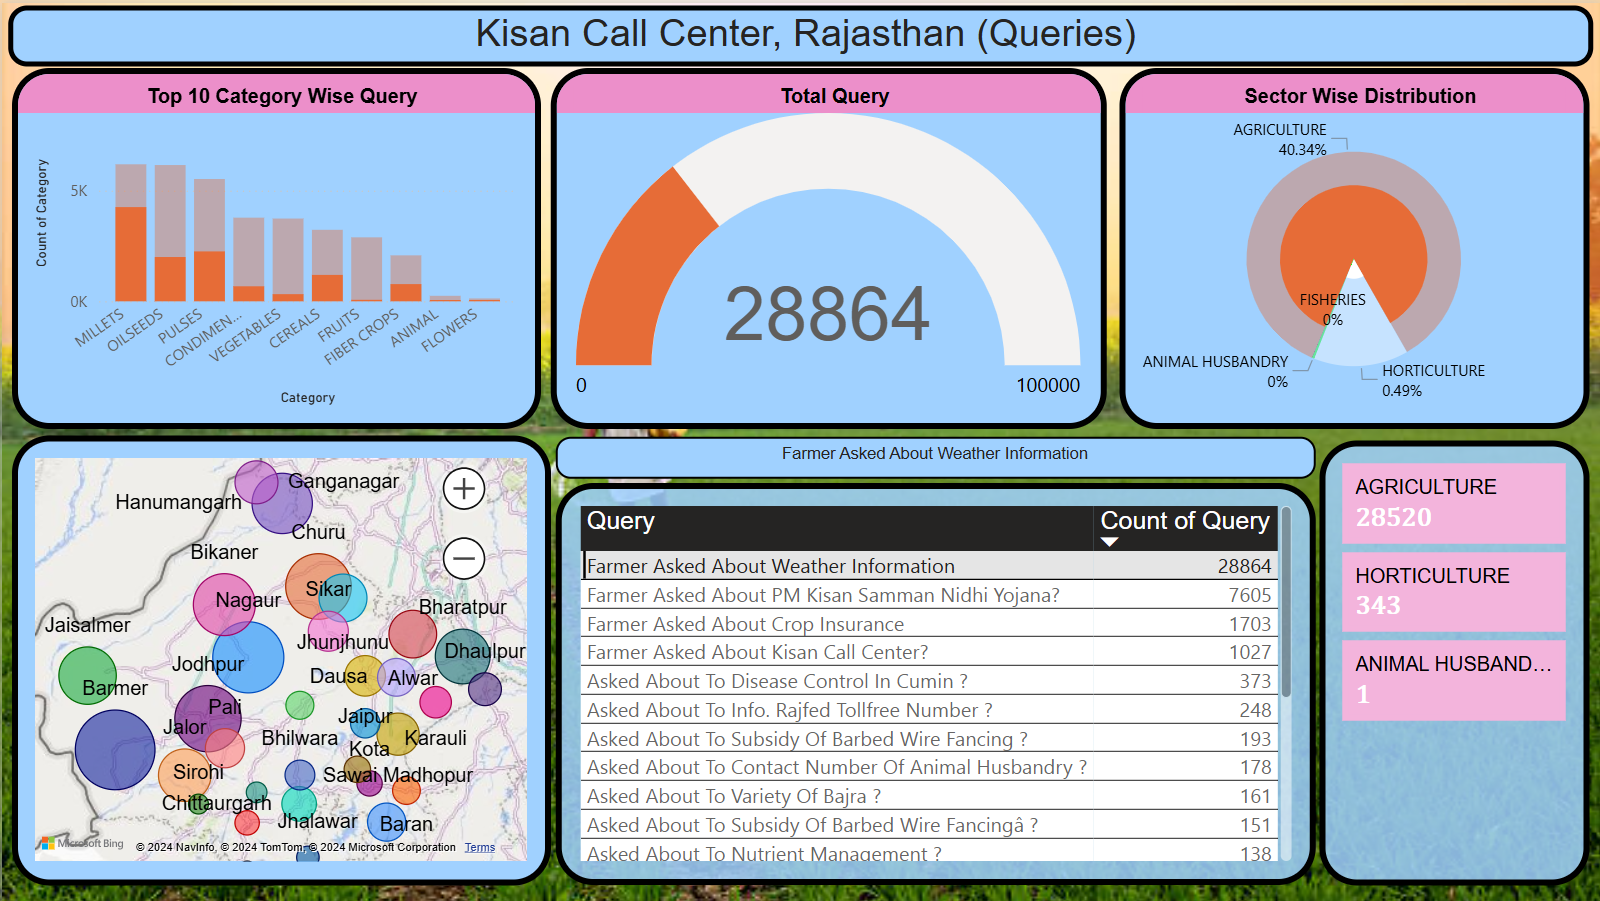

What the dashboard file says about the page in this screenshot:
{"tool":"powerbi","page":{"name":"Dashboard","canvas":[1280,720],"ordinal":0},"visuals":[{"type":"map","title":"District Wise Query","fields":{"Size":["CountNonNull(Cleaned.District)"],"Category":["Location (2).District"],"Series":["Location (2).District"],"Y":["Avg(Location (2).Latitude)"],"X":["Avg(Location (2).Longitude)"]},"box":[8.4,346.2,430.7,359.5],"z":0},{"type":"clusteredColumnChart","title":"Top 10 Category Wise Query","fields":{"Category":["Table1_15.Category"],"Y":["CountNonNull(Table1_15.Category)"]},"box":[8.4,51.9,422.3,289.5],"z":1000},{"type":"gauge","title":"Total Query","fields":{"Y":["CountNonNull(Table1_15.Category)"]},"box":[439.1,51.9,445.2,289.5],"z":2000},{"type":"card","title":"Top 1 Query","fields":{"Values":["Min(Cleaned.Query)"]},"box":[443.1,346.9,608.1,33.8],"z":3000},{"type":"tableEx","fields":{"Values":["Cleaned.Query","CountNonNull(Cleaned.Query)"]},"box":[443,383.6,608,322.1],"z":4000},{"type":"pieChart","title":"Sector Wise Distribution","fields":{"Category":["Table1_15.Sector"],"Y":["CountNonNull(Table1_15.Sector)"]},"box":[894,51.9,376.4,289.5],"z":5000},{"type":"multiRowCard","fields":{"Values":["CountNonNull(Table1_15.Sector)","Table1_15.Sector"]},"box":[1054.4,349.9,216,355.9],"z":6000},{"type":"textbox","title":"Kisan Call Center, Rajasthan (Queries)","box":[4.8,2.4,1268,48.3],"z":7000}]}

Visuals, with their boxes in screenshot pixels (x1, y1, x2, y2), scaled from the page's 1280x720 canvas onto the 1600x901 screenshot:
"District Wise Query" map: left=10, top=433, right=549, bottom=883
"Top 10 Category Wise Query" clusteredColumnChart: left=10, top=65, right=538, bottom=427
"Total Query" gauge: left=549, top=65, right=1105, bottom=427
"Top 1 Query" card: left=554, top=434, right=1314, bottom=476
tableEx - Cleaned.Query x CountNonNull(Cleaned.Query): left=554, top=480, right=1314, bottom=883
"Sector Wise Distribution" pieChart: left=1118, top=65, right=1588, bottom=427
multiRowCard - CountNonNull(Table1_15.Sector) x Table1_15.Sector: left=1318, top=438, right=1588, bottom=883
"Kisan Call Center, Rajasthan (Queries)" textbox: left=6, top=3, right=1591, bottom=63
